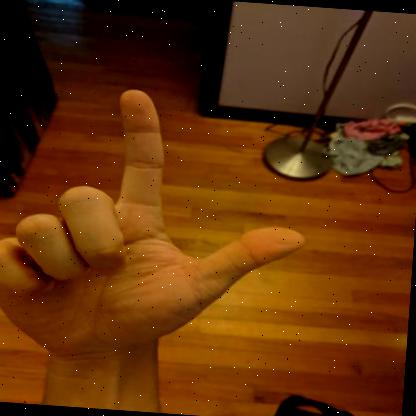L: (0, 90, 305, 366)
